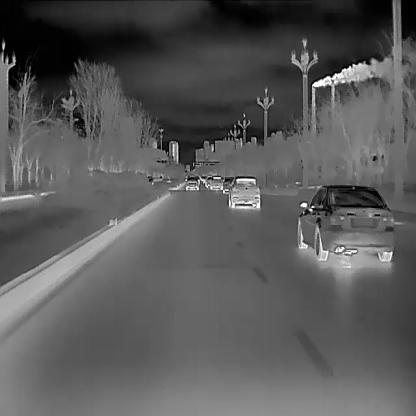car: (297, 184, 393, 261), (228, 176, 260, 208), (184, 176, 200, 190), (220, 176, 234, 192), (210, 176, 224, 190)
